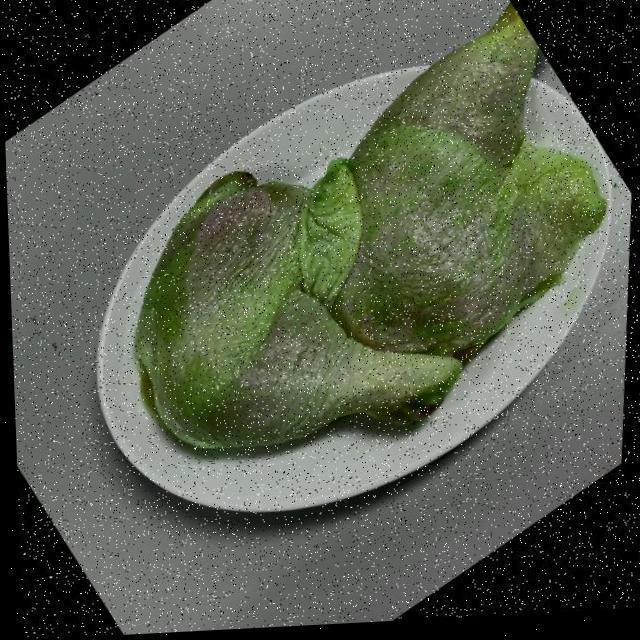quater: (134, 160, 435, 476), (324, 2, 602, 340)
